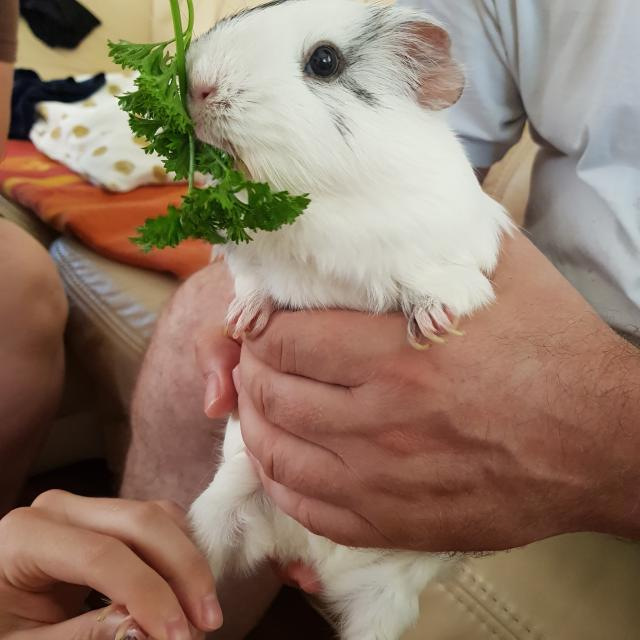guinea pig: (130, 1, 514, 640)
